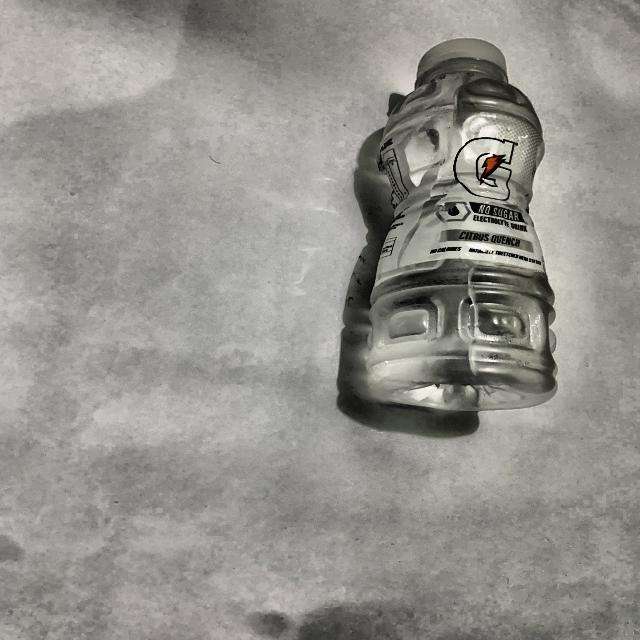plastic bottle: (368, 38, 557, 411)
